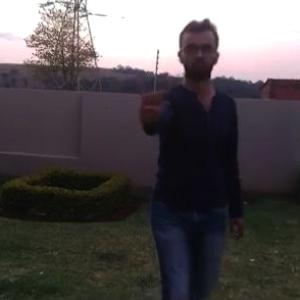takeoff-hand: (128, 80, 176, 125)
